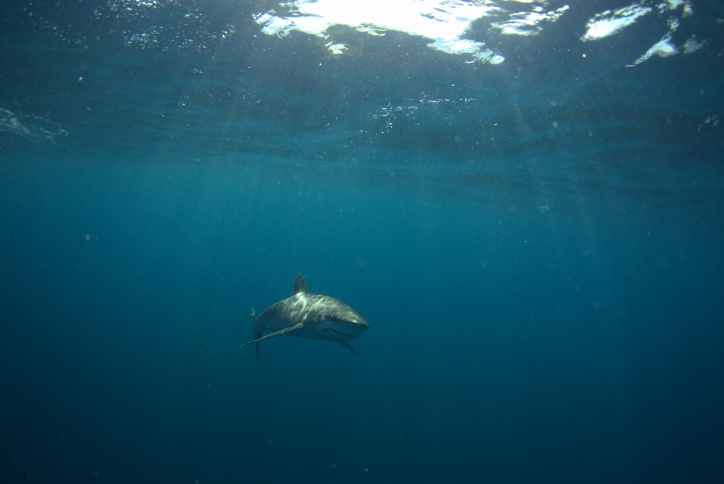Sedoso: (223, 263, 400, 374)
